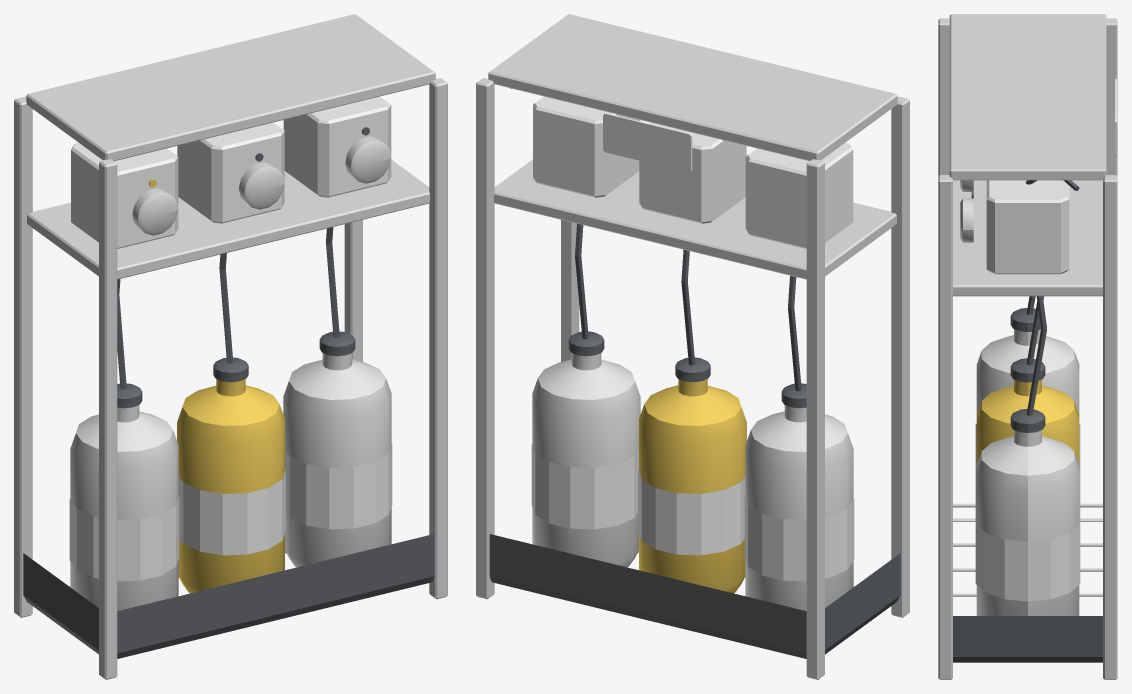
File: laundrette-and-cleaning-bulk-detergent-dosing-rack-91c7c4a8__25525.glb
3 renders of one model, left to right at view 1: azimuth 30°, elevation 25°; view 2: azimuth 150°, elevation 25°; view 3: azimuth 270°, elevation 25°, orthographic. The views are drawn at different scales.
Parts seen in each view (by area): view 1: bulk-detergent-dosing-rack; view 2: bulk-detergent-dosing-rack; view 3: bulk-detergent-dosing-rack.
Boxes of the visible parts, box(x1,y1,x2,y2) form: bulk-detergent-dosing-rack: box(14, 14, 447, 679); bulk-detergent-dosing-rack: box(476, 14, 909, 679); bulk-detergent-dosing-rack: box(938, 14, 1117, 679).
Bounding box in the file's own units: 0.9349 × 1.36 × 0.435.
